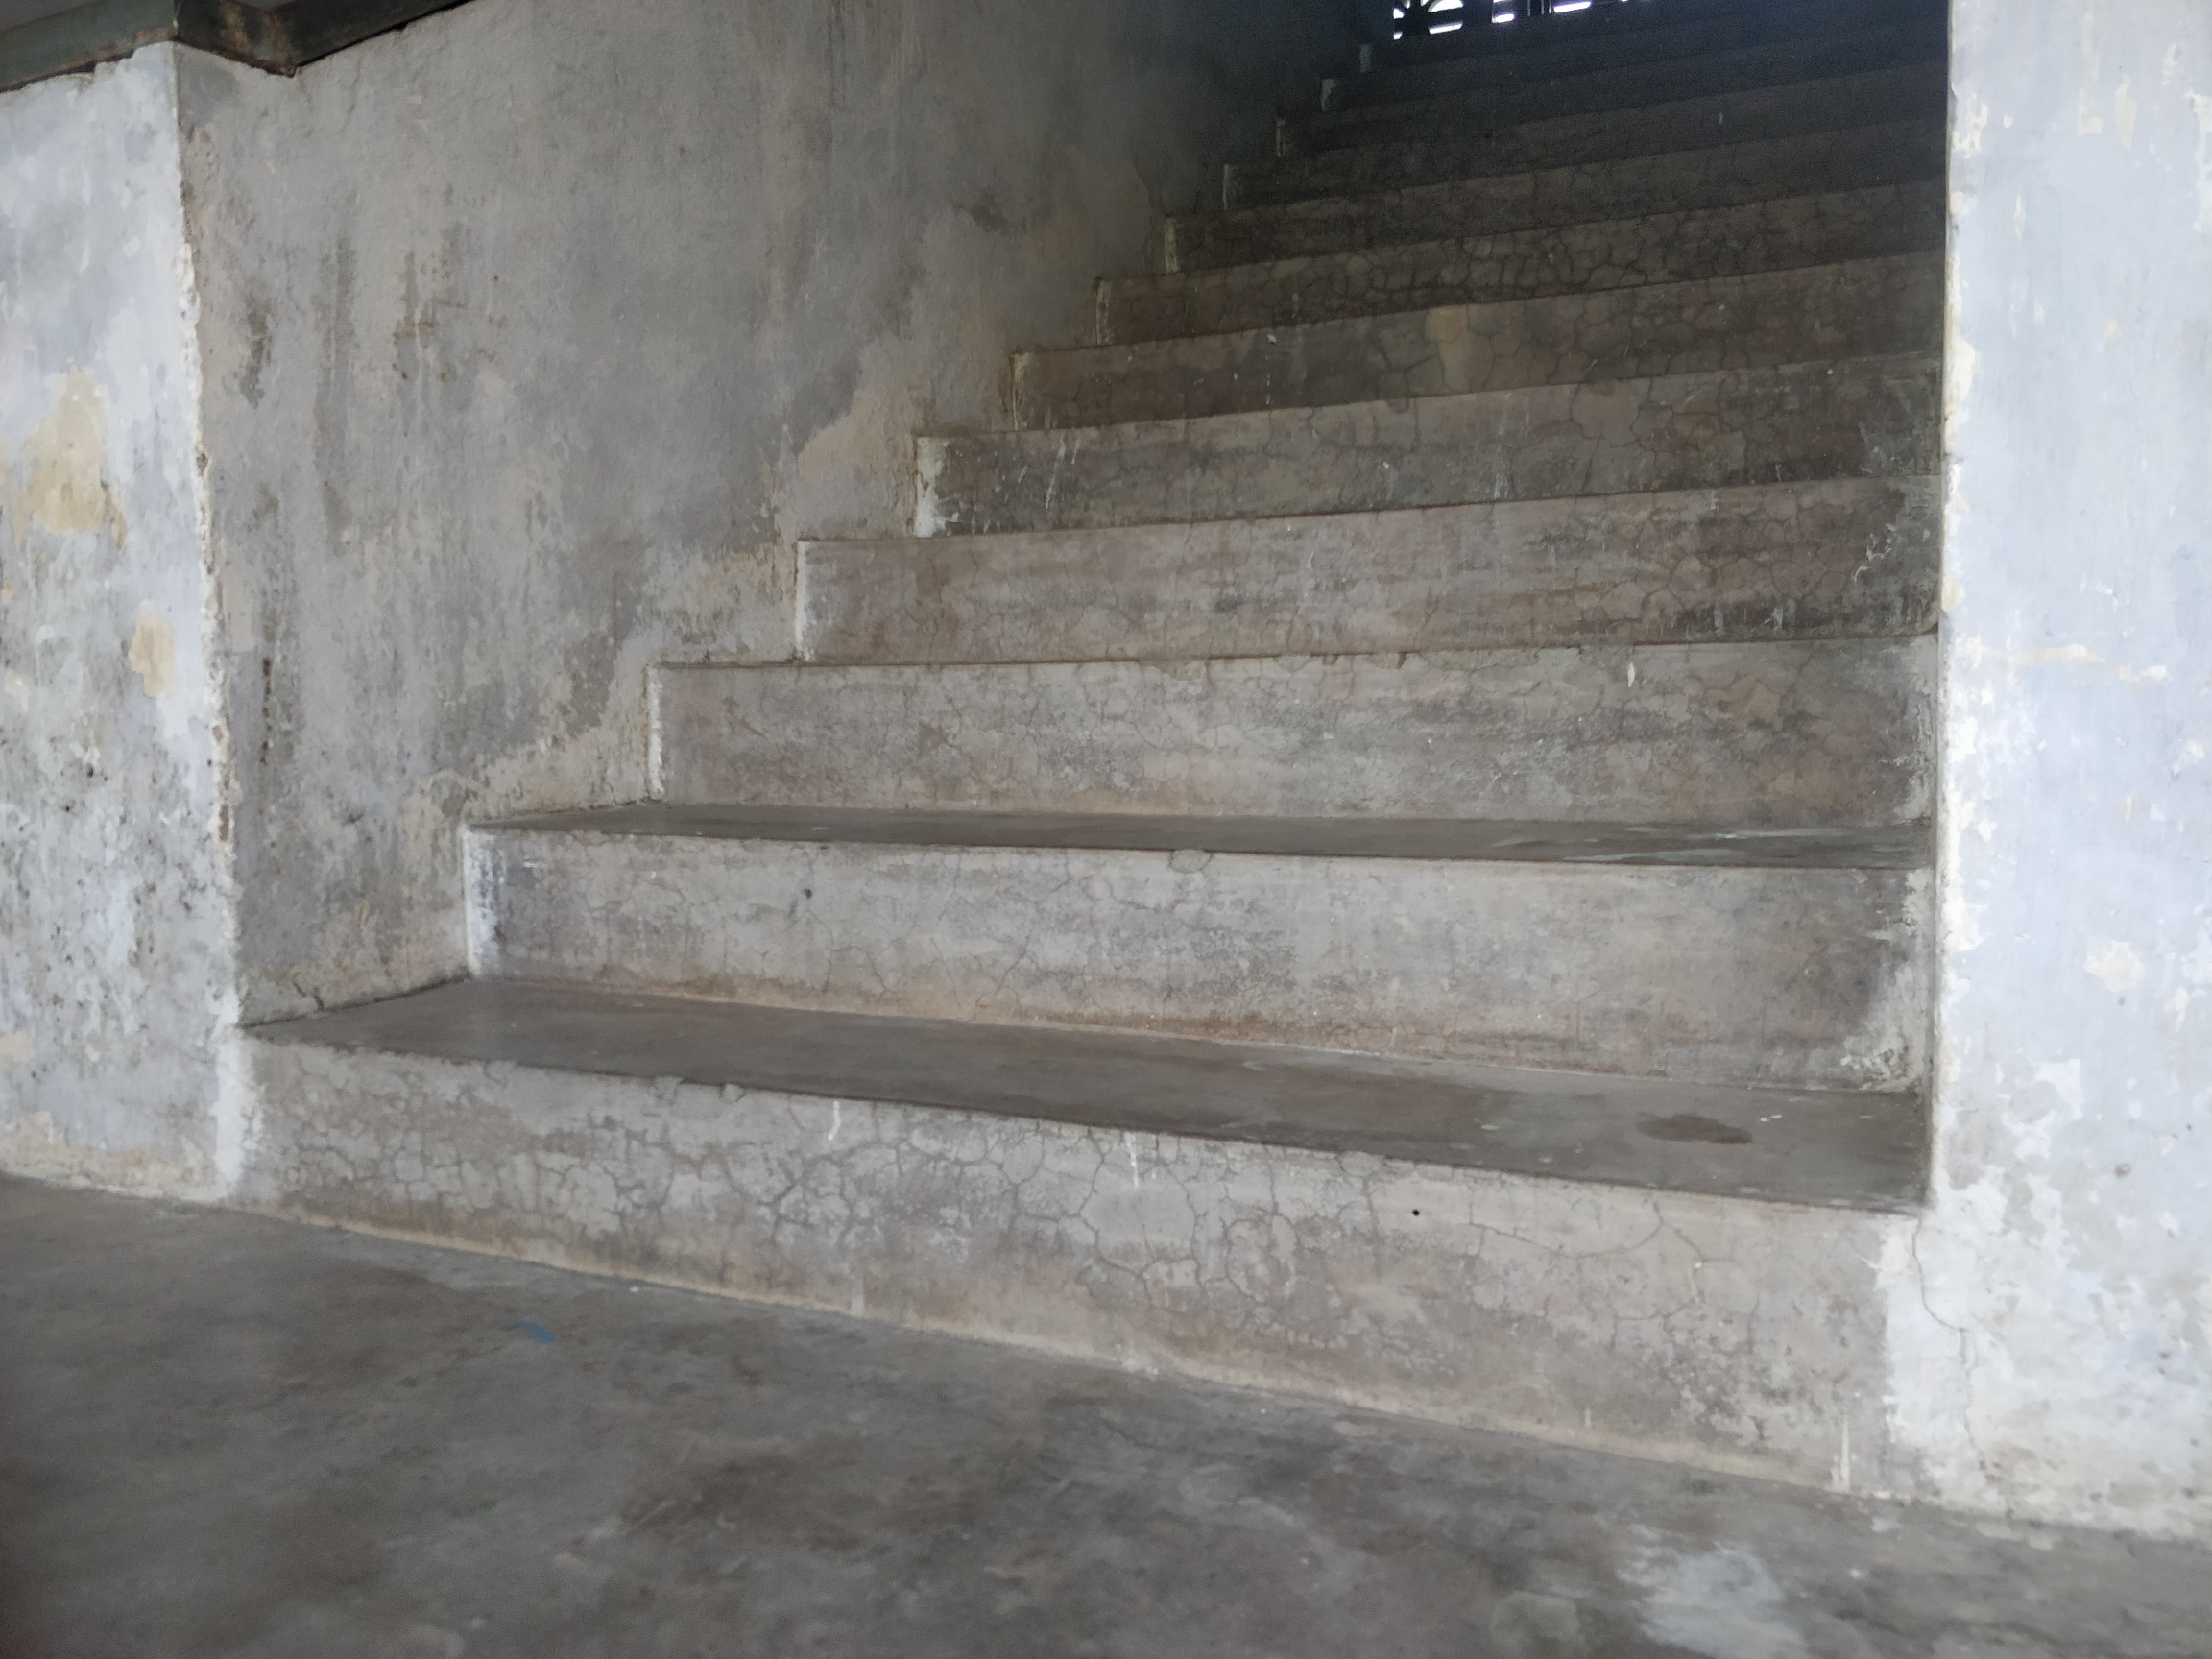stairs_up: (254, 2, 1951, 1406)
